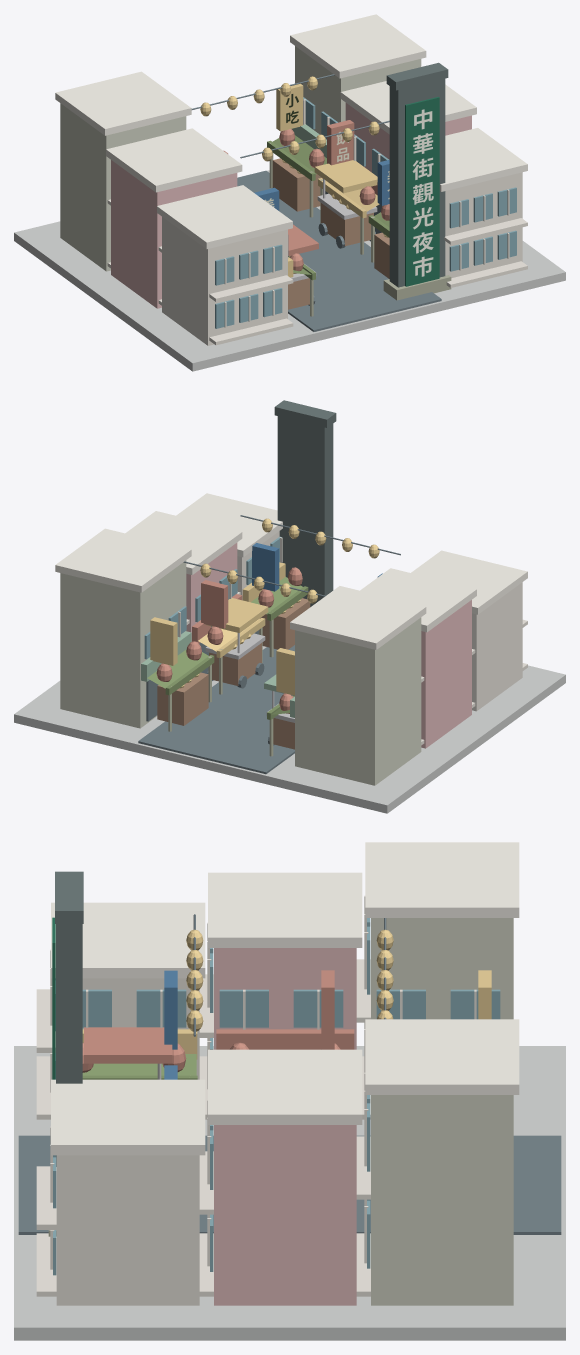
Rendered from dot-P04.glb.
The picture shows the model from 3 angles, top to bottom: view 1: azimuth 30°, elevation 25°; view 2: azimuth 150°, elevation 25°; view 3: azimuth 270°, elevation 25°; orthographic projection. The views are drawn at different scales.
Visible parts, largest first — view 1: P04_pave, P04_legible_market; view 2: P04_pave; view 3: P04_pave.
Boxes of the visible parts, x1=… form: P04_pave: x1=14, y1=14, x2=565, y2=371; P04_legible_market: x1=412, y1=109, x2=433, y2=276; P04_pave: x1=14, y1=400, x2=565, y2=813; P04_pave: x1=14, y1=842, x2=565, y2=1340.
Size of the model in its own units: 6.08 by 3.53 by 5.04.
Materials: 5 (5 with a texture image).
